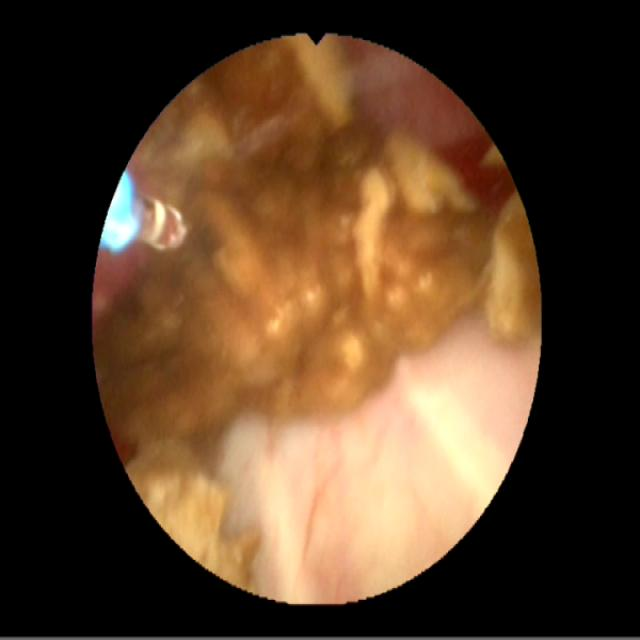fiber: (105, 175, 138, 250)
stone: (99, 38, 537, 584)
